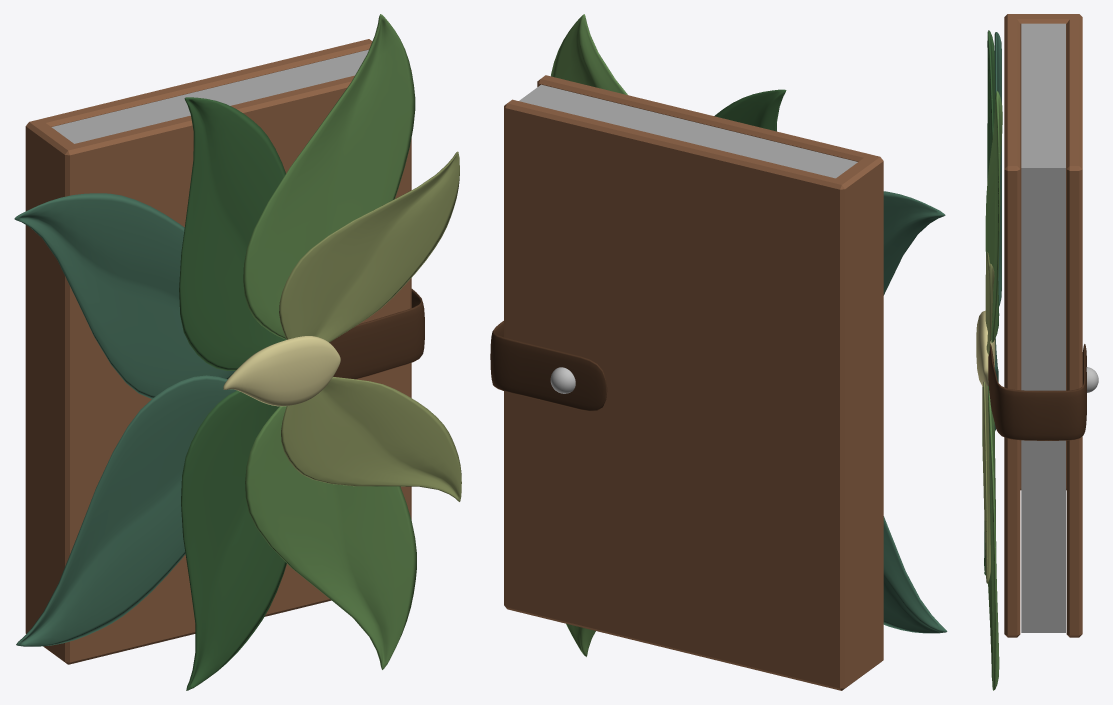
The model's file is Book.fbx.
3 views of the same model, side by side, from view 1: azimuth 30°, elevation 25°; view 2: azimuth 150°, elevation 25°; view 3: azimuth 270°, elevation 25° (orthographic). The views are drawn at different scales.
Visible parts, largest first — view 1: Book_Cover, polySurface4, polySurface2, polySurface3, polySurface1, Seed, Strap, Pages, Pages1, Pages2, Pages3, Pages4 (+2 smaller); view 2: Book_Cover, polySurface4, Strap, polySurface2, polySurface3, Pages1, Pages4, Pages5, Pages6, Pages2, Pages3, Pages7 (+1 smaller); view 3: Book_Cover, Strap, polySurface2, Pages1, Pages3, Pages, Pages7, Pages5, Pages6, Pages2, Pages4, polySurface1 (+4 smaller).
Boxes of the visible parts, x1=… form: Book_Cover: x1=25, y1=39, x2=411, y2=664; polySurface4: x1=14, y1=193, x2=236, y2=646; polySurface2: x1=243, y1=14, x2=416, y2=669; polySurface3: x1=179, y1=97, x2=286, y2=690; polySurface1: x1=279, y1=151, x2=461, y2=501; Seed: x1=223, y1=336, x2=340, y2=406; Strap: x1=329, y1=289, x2=424, y2=379; Pages: x1=51, y1=49, x2=368, y2=129; Pages1: x1=55, y1=53, x2=367, y2=131; Pages2: x1=58, y1=56, x2=365, y2=133; Pages3: x1=61, y1=60, x2=363, y2=135; Pages4: x1=64, y1=63, x2=361, y2=138; Book_Cover: x1=504, y1=75, x2=883, y2=690; polySurface4: x1=883, y1=191, x2=947, y2=633; Strap: x1=490, y1=321, x2=607, y2=411; polySurface2: x1=551, y1=14, x2=627, y2=656; polySurface3: x1=714, y1=89, x2=786, y2=131; Pages1: x1=520, y1=98, x2=839, y2=177; Pages4: x1=529, y1=91, x2=848, y2=170; Pages5: x1=532, y1=89, x2=851, y2=168; Pages6: x1=535, y1=87, x2=854, y2=166; Pages2: x1=523, y1=95, x2=842, y2=174; Pages3: x1=526, y1=93, x2=845, y2=172; Pages7: x1=538, y1=84, x2=857, y2=163; Book_Cover: x1=1004, y1=14, x2=1082, y2=637; Strap: x1=988, y1=344, x2=1086, y2=440; polySurface2: x1=982, y1=91, x2=1002, y2=690; Pages1: x1=1054, y1=23, x2=1060, y2=632; Pages3: x1=1043, y1=23, x2=1049, y2=632; Pages: x1=1060, y1=23, x2=1065, y2=632; Pages7: x1=1021, y1=23, x2=1026, y2=632; Pages5: x1=1032, y1=23, x2=1037, y2=632; Pages6: x1=1027, y1=23, x2=1032, y2=632; Pages2: x1=1049, y1=23, x2=1054, y2=632; Pages4: x1=1038, y1=23, x2=1043, y2=632; polySurface1: x1=982, y1=252, x2=994, y2=583.
Size of the model in its own units: 9.34 by 13.2 by 2.44.
